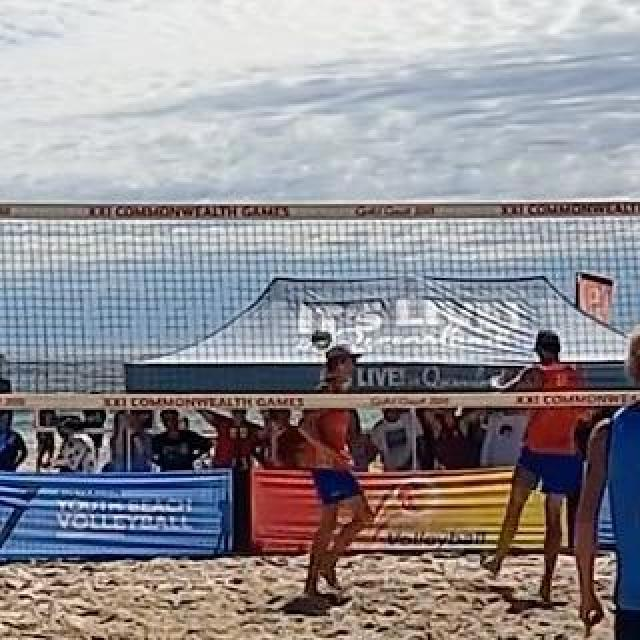volleyball: (312, 330, 334, 350)
